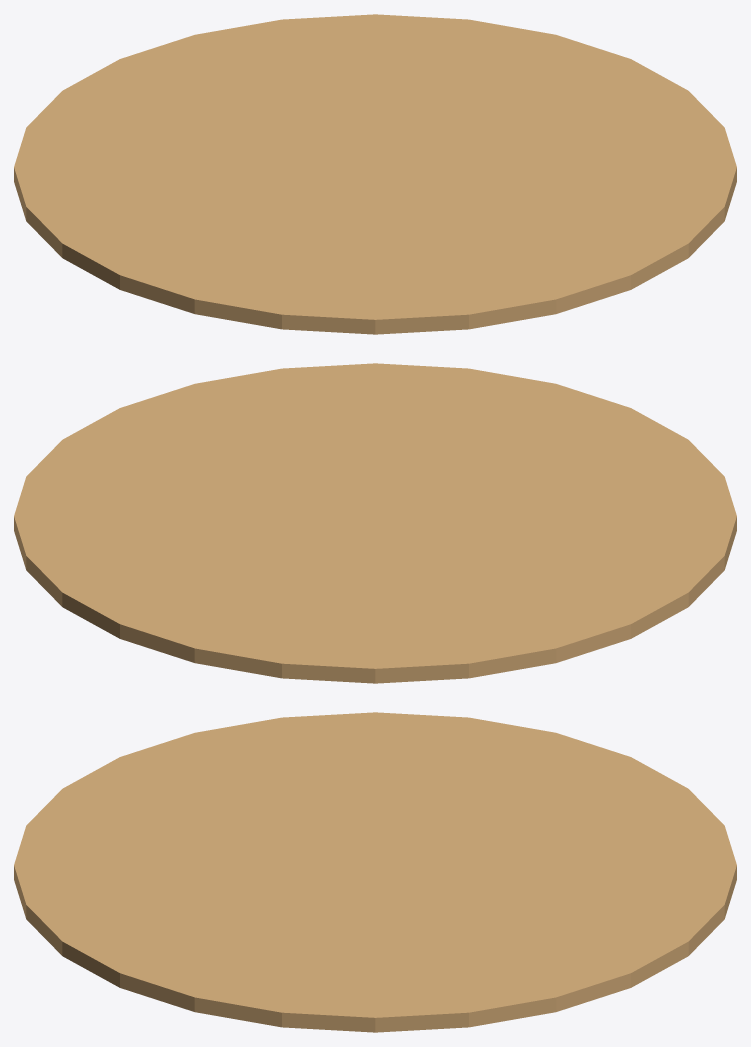
Rendered from crust.glb.
3 renders of one model, top to bottom at view 1: azimuth 30°, elevation 25°; view 2: azimuth 150°, elevation 25°; view 3: azimuth 270°, elevation 25°, orthographic.
Visible parts, largest first — view 1: CrustRim; view 2: CrustRim; view 3: CrustRim.
Boxes of the visible parts, <box> form: CrustRim: <box>14,14,736,334</box>; CrustRim: <box>14,363,736,683</box>; CrustRim: <box>14,712,736,1032</box>.
Size of the model in its own units: 2 by 0.045 by 2.
